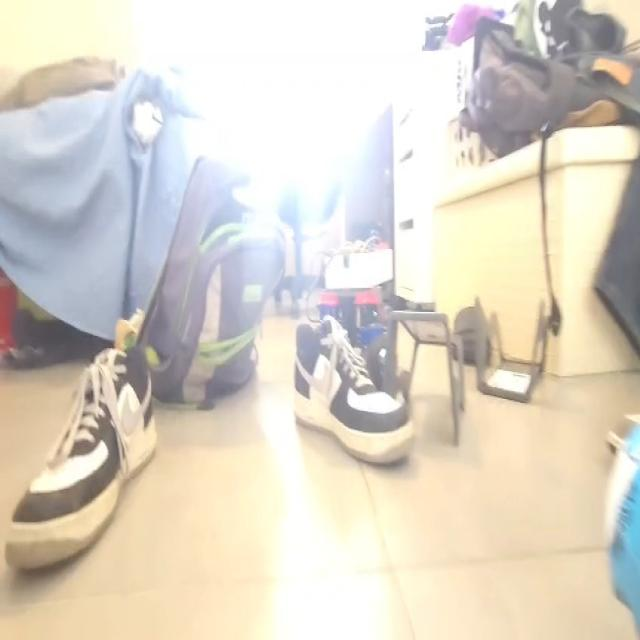Robot: (314, 243, 398, 390)
